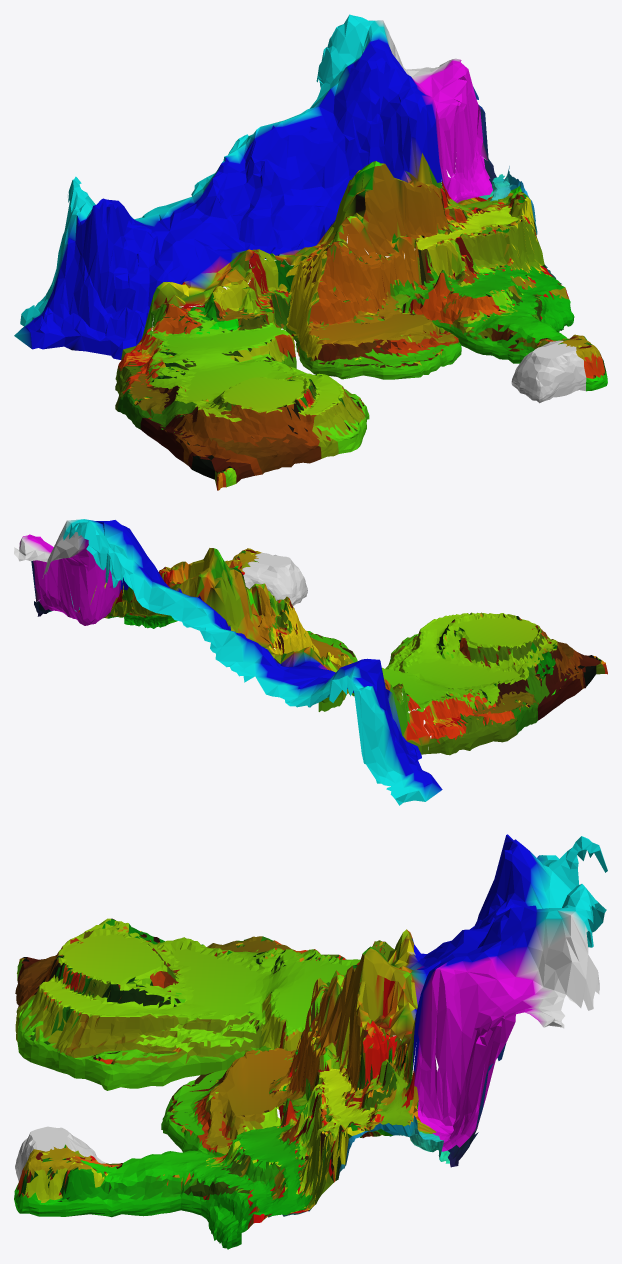
File: T-Cuarta parte cortado.FBX
3 views of the same model, one above another, from view 1: azimuth 30°, elevation 25°; view 2: azimuth 150°, elevation 25°; view 3: azimuth 270°, elevation 25° (orthographic). The views are drawn at different scales.
Parts seen in each view (by area): view 1: z78, z74, z40, z31, z76, z48, z42, z47, z49, z75, z58, z55 (+23 smaller); view 2: z78, z71, z75, z40, z76, z70, z51, z73, z60, z59, z72, z34 (+5 smaller); view 3: z78, z57, z40, z31, z56, z39, z58, z34, z60, z47, z46, z70 (+20 smaller).
Part boxes in pixels (x1,y1,x2,y2): z78: (14, 14, 488, 360); z74: (215, 403, 321, 490); z40: (511, 334, 607, 403); z31: (497, 203, 574, 332); z76: (162, 401, 241, 489); z48: (318, 242, 386, 346); z42: (421, 237, 489, 331); z47: (354, 248, 431, 340); z49: (309, 339, 405, 379); z75: (116, 371, 198, 445); z58: (295, 386, 364, 458); z55: (215, 312, 296, 368); z78: (14, 519, 442, 805); z71: (422, 695, 512, 755); z75: (481, 666, 558, 737); z40: (225, 548, 307, 605); z76: (523, 630, 607, 705); z70: (442, 612, 511, 664); z51: (257, 591, 308, 652); z73: (488, 613, 544, 666); z60: (419, 648, 493, 689); z59: (392, 676, 477, 707); z72: (468, 659, 526, 696); z34: (78, 577, 124, 625); z78: (316, 834, 607, 1132); z57: (51, 978, 172, 1090); z40: (14, 1126, 109, 1216); z31: (205, 1127, 348, 1249); z56: (165, 998, 263, 1081); z39: (99, 1150, 201, 1217); z58: (15, 962, 93, 1069); z34: (389, 1034, 464, 1133); z60: (170, 963, 268, 1006); z47: (209, 999, 320, 1117); z46: (161, 1087, 237, 1156); z70: (71, 950, 177, 1000).
Bounding box in the file's own units: 13865 × 6943 × 11921.
